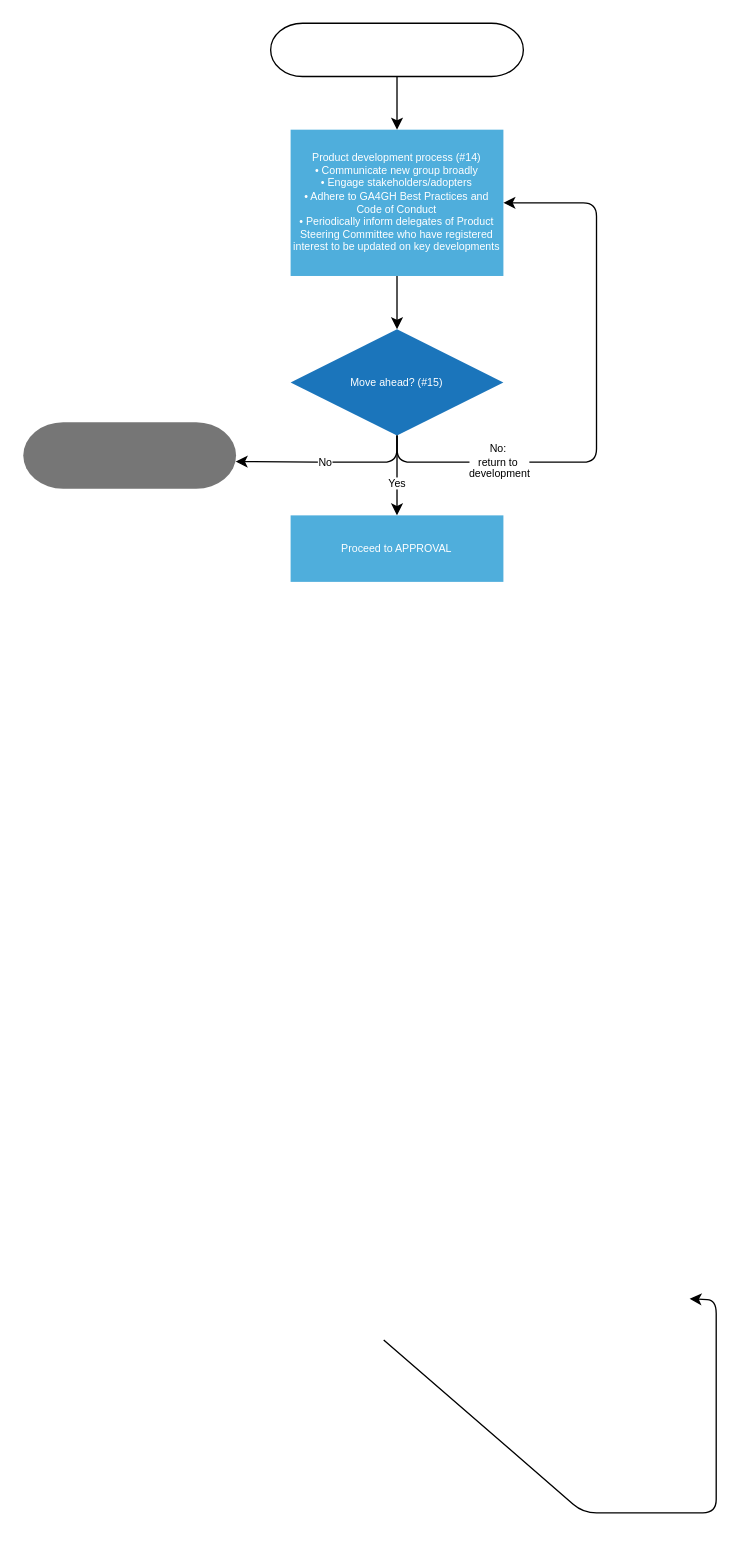
The diagram is 750 pixels wide and 1547 high, and some of its shapes have lost their labels. The shapes that lost their labels are listed below. From the top down, each one's centre as x and y in pixels, then its label:
(x=396, y=49): Start here
(x=129, y=455): End
